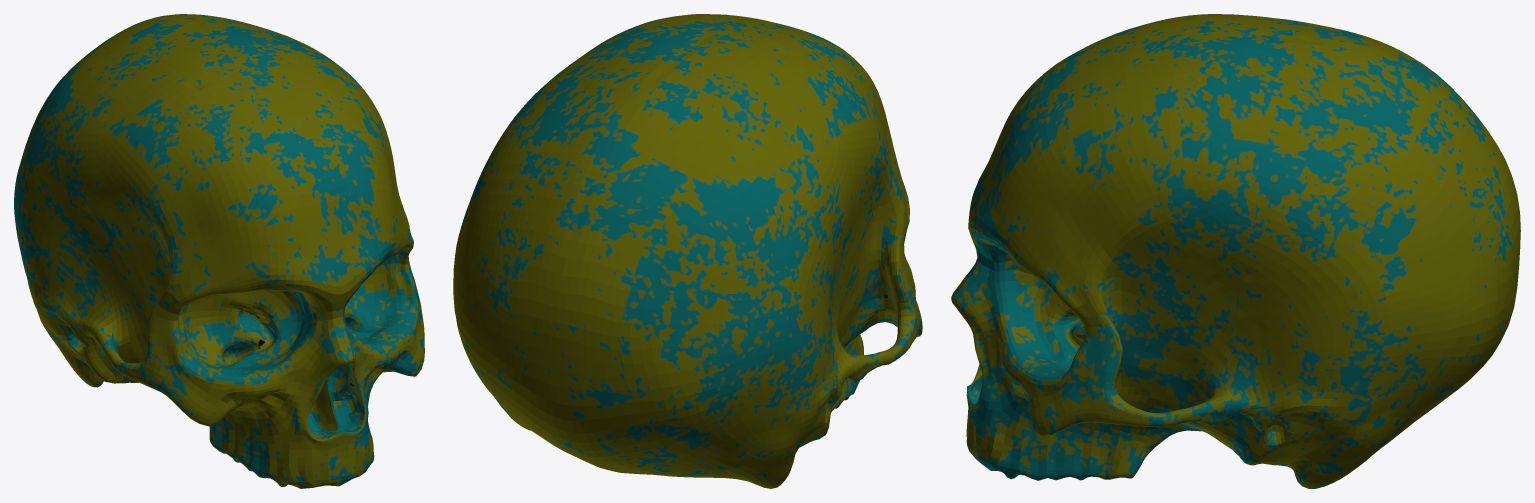
File: UpperSkull.obj
3 renders of one model, left to right at view 1: azimuth 30°, elevation 25°; view 2: azimuth 150°, elevation 25°; view 3: azimuth 270°, elevation 25°, orthographic. The views are drawn at different scales.
Visible parts, largest first — view 1: Upper_skull; view 2: Upper_skull; view 3: Upper_skull.
Boxes of the visible parts, <box> form: Upper_skull: <box>14,14,424,488</box>; Upper_skull: <box>453,14,922,488</box>; Upper_skull: <box>951,14,1520,488</box>.
Bounding box in the file's own units: 1.83 × 2.11 × 2.59.
Materials: 1 (1 with a texture image).
